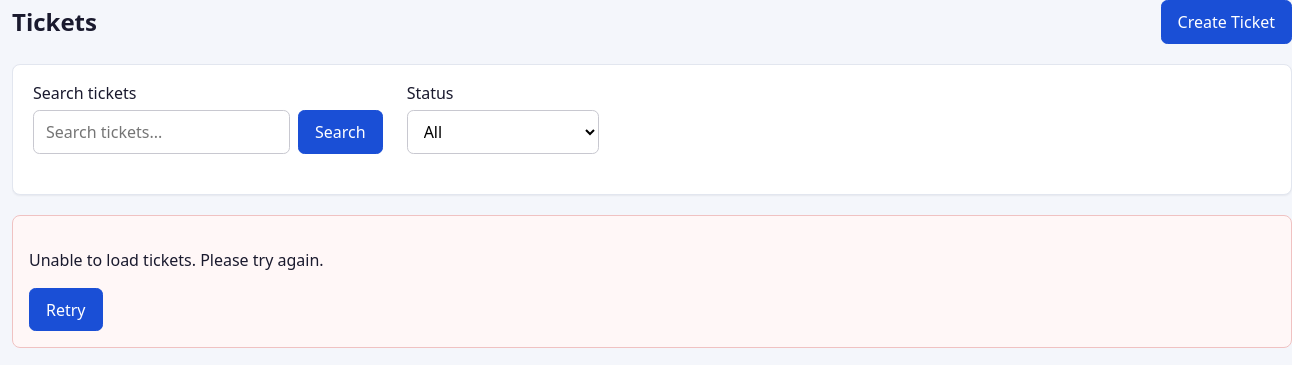
it: TicketsPage › displays an error state with retry when the API request fails
Check: the text "Unable to load tickets. Please try again." is shown, box [29,249,324,271]
What coordinates should you click on to do the following:
click the button "Retry"
I would click on:
 (66, 310)
Its box is [29,288,102,331].
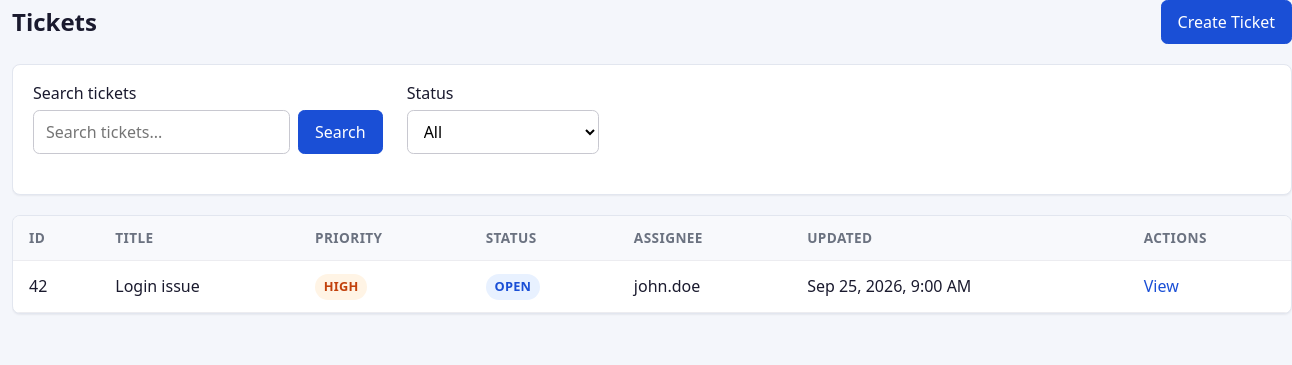
Check: the text "Login issue" is shown, box [99,261,299,312]
